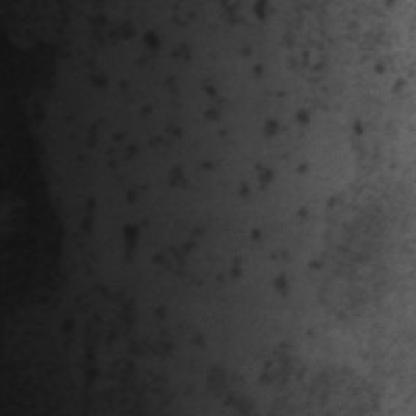pitted_surface: (88, 18, 356, 408)
